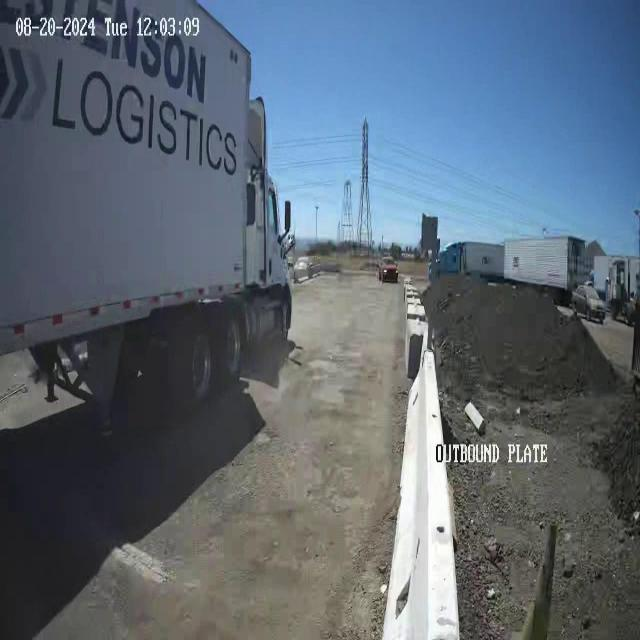TRUCK_CONTAINER: (0, 0, 296, 446)
